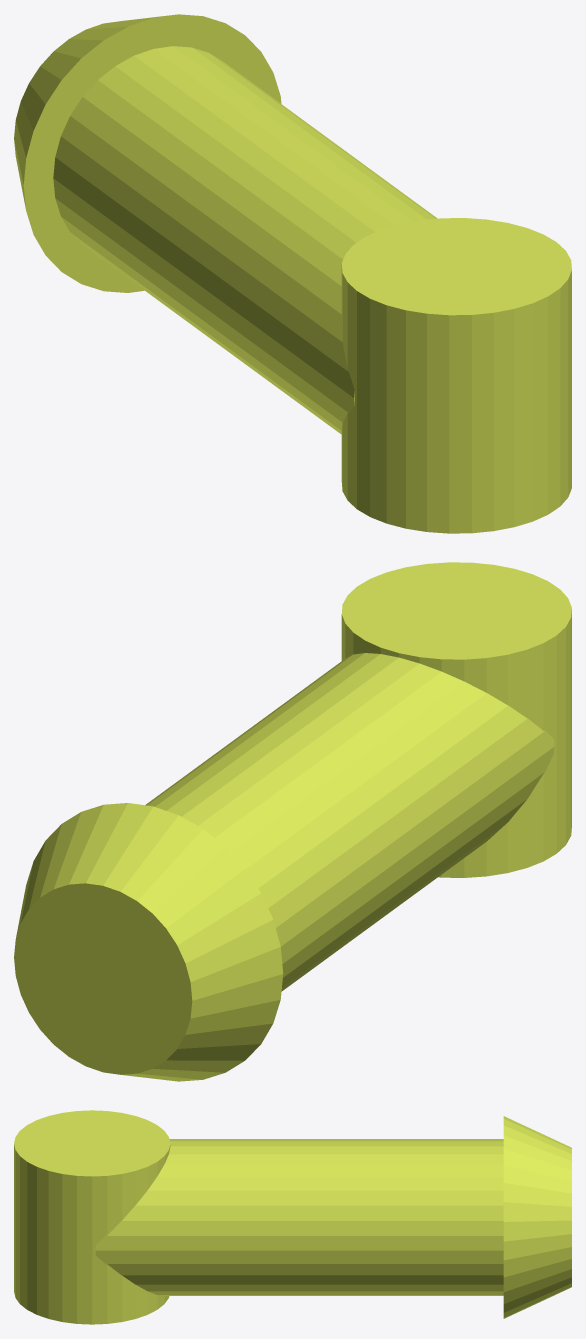
Rendered from r7000_hoist_stem.glb.
The picture shows the model from 3 angles, top to bottom: view 1: azimuth 30°, elevation 25°; view 2: azimuth 150°, elevation 25°; view 3: azimuth 270°, elevation 25°; orthographic projection. The views are drawn at different scales.
Visible parts, largest first — view 1: Stem; view 2: Stem; view 3: Stem.
Boxes of the visible parts, left/top/right/bottom form: Stem: left=14, top=14, right=571, bottom=533; Stem: left=14, top=562, right=571, bottom=1081; Stem: left=14, top=1110, right=571, bottom=1324.
Size of the model in its own units: 2 by 2 by 5.49.
